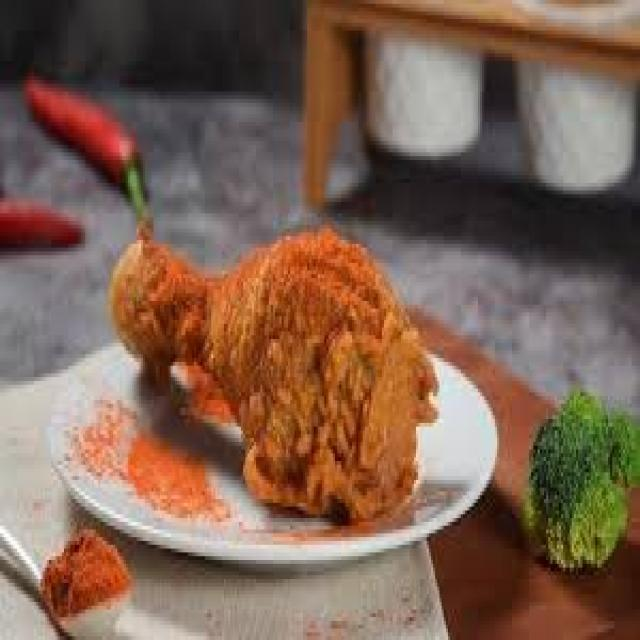Frango: (109, 240, 433, 518)
